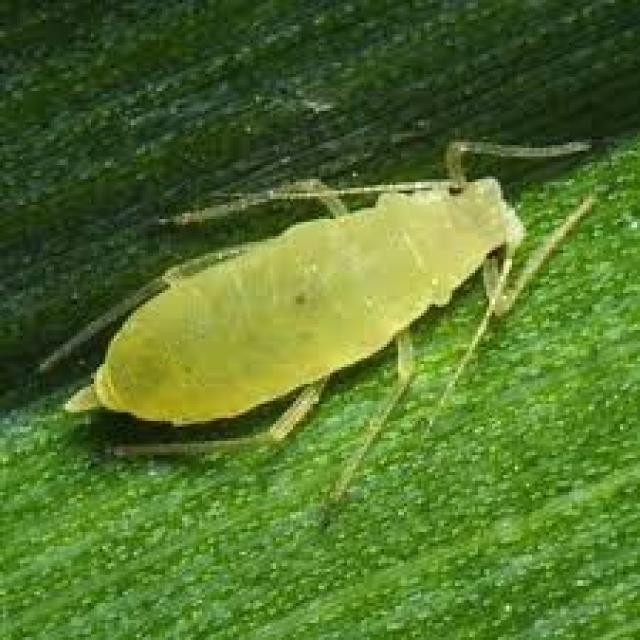aphid: (54, 95, 610, 508)
